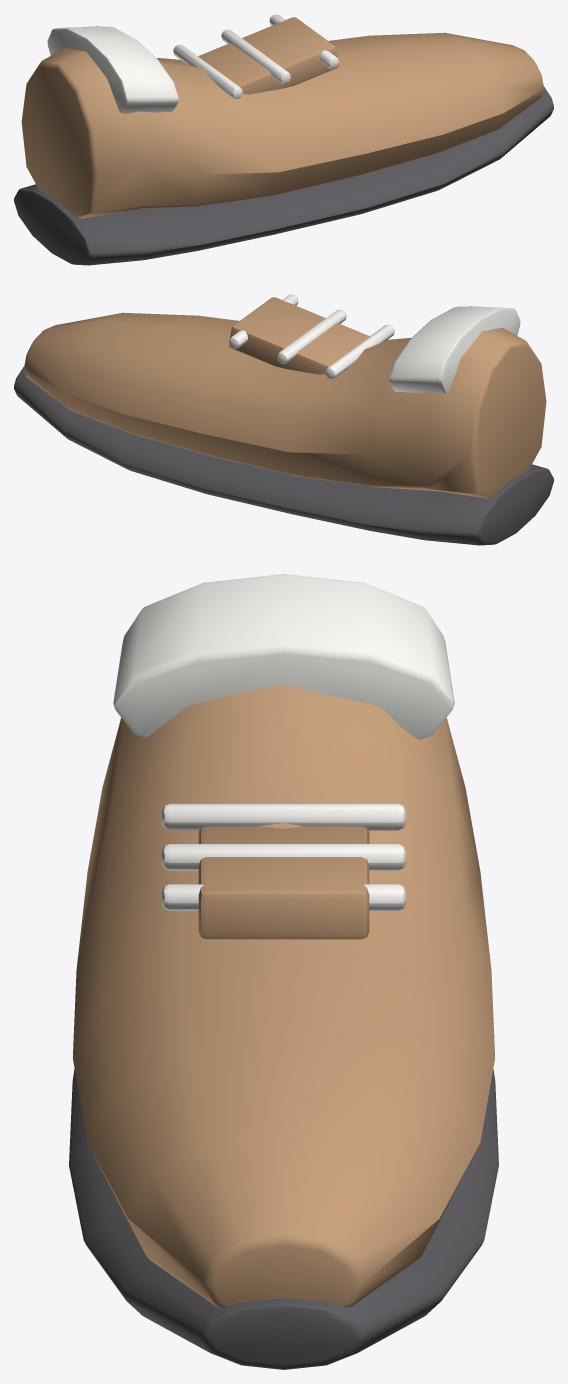
Rendered from shoe.glb.
3 views of the same model, one above another, from view 1: azimuth 30°, elevation 25°; view 2: azimuth 150°, elevation 25°; view 3: azimuth 270°, elevation 25° (orthographic). The views are drawn at different scales.
Visible parts, largest first — view 1: shoe; view 2: shoe; view 3: shoe.
Part boxes in pixels (x1,y1,x2,y2): shoe: [14, 14, 553, 265]; shoe: [14, 294, 553, 545]; shoe: [69, 574, 498, 1369].
Bounding box in the file's own units: 0.302 × 0.1235 × 0.1161.
